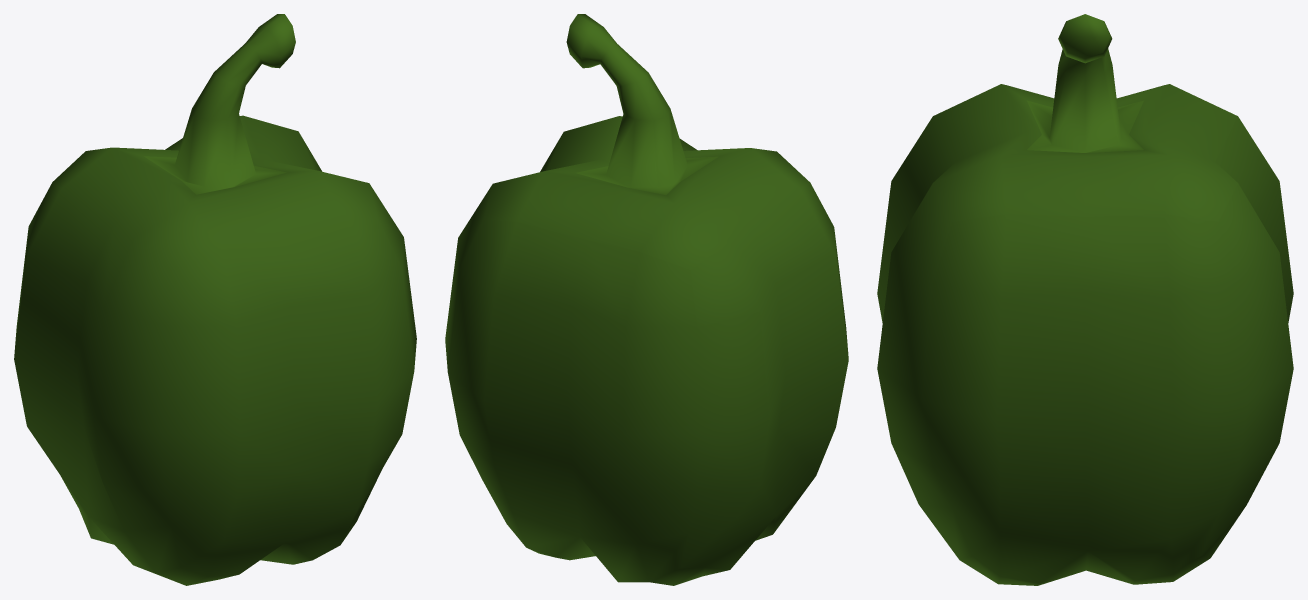
Rendered from pepper_green.glb.
3 views of the same model, side by side, from view 1: azimuth 30°, elevation 25°; view 2: azimuth 150°, elevation 25°; view 3: azimuth 270°, elevation 25° (orthographic). The views are drawn at different scales.
Parts seen in each view (by area): view 1: Pepper_Green; view 2: Pepper_Green; view 3: Pepper_Green.
Part boxes in pixels (bbox=[...]): Pepper_Green: bbox=[14, 14, 416, 585]; Pepper_Green: bbox=[445, 14, 848, 585]; Pepper_Green: bbox=[877, 14, 1293, 585].
Bounding box in the file's own units: 0.1045 × 0.1589 × 0.1045.
Materials: 1 (1 with a texture image).
